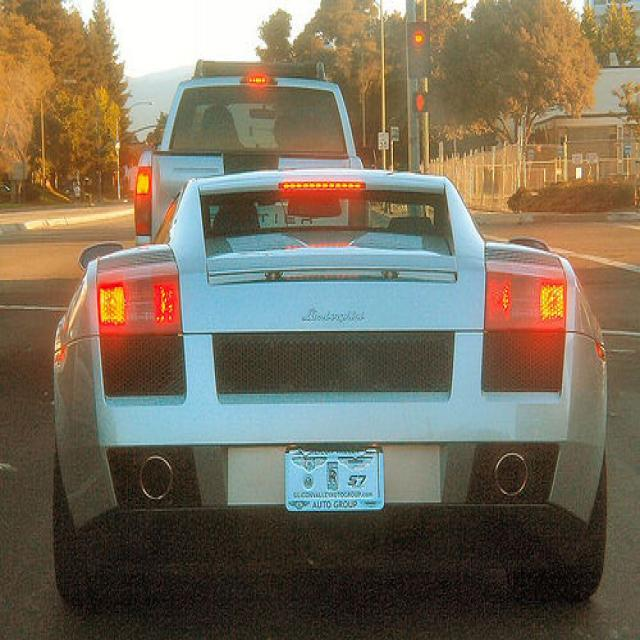car: (47, 166, 612, 614), (133, 55, 373, 249)
